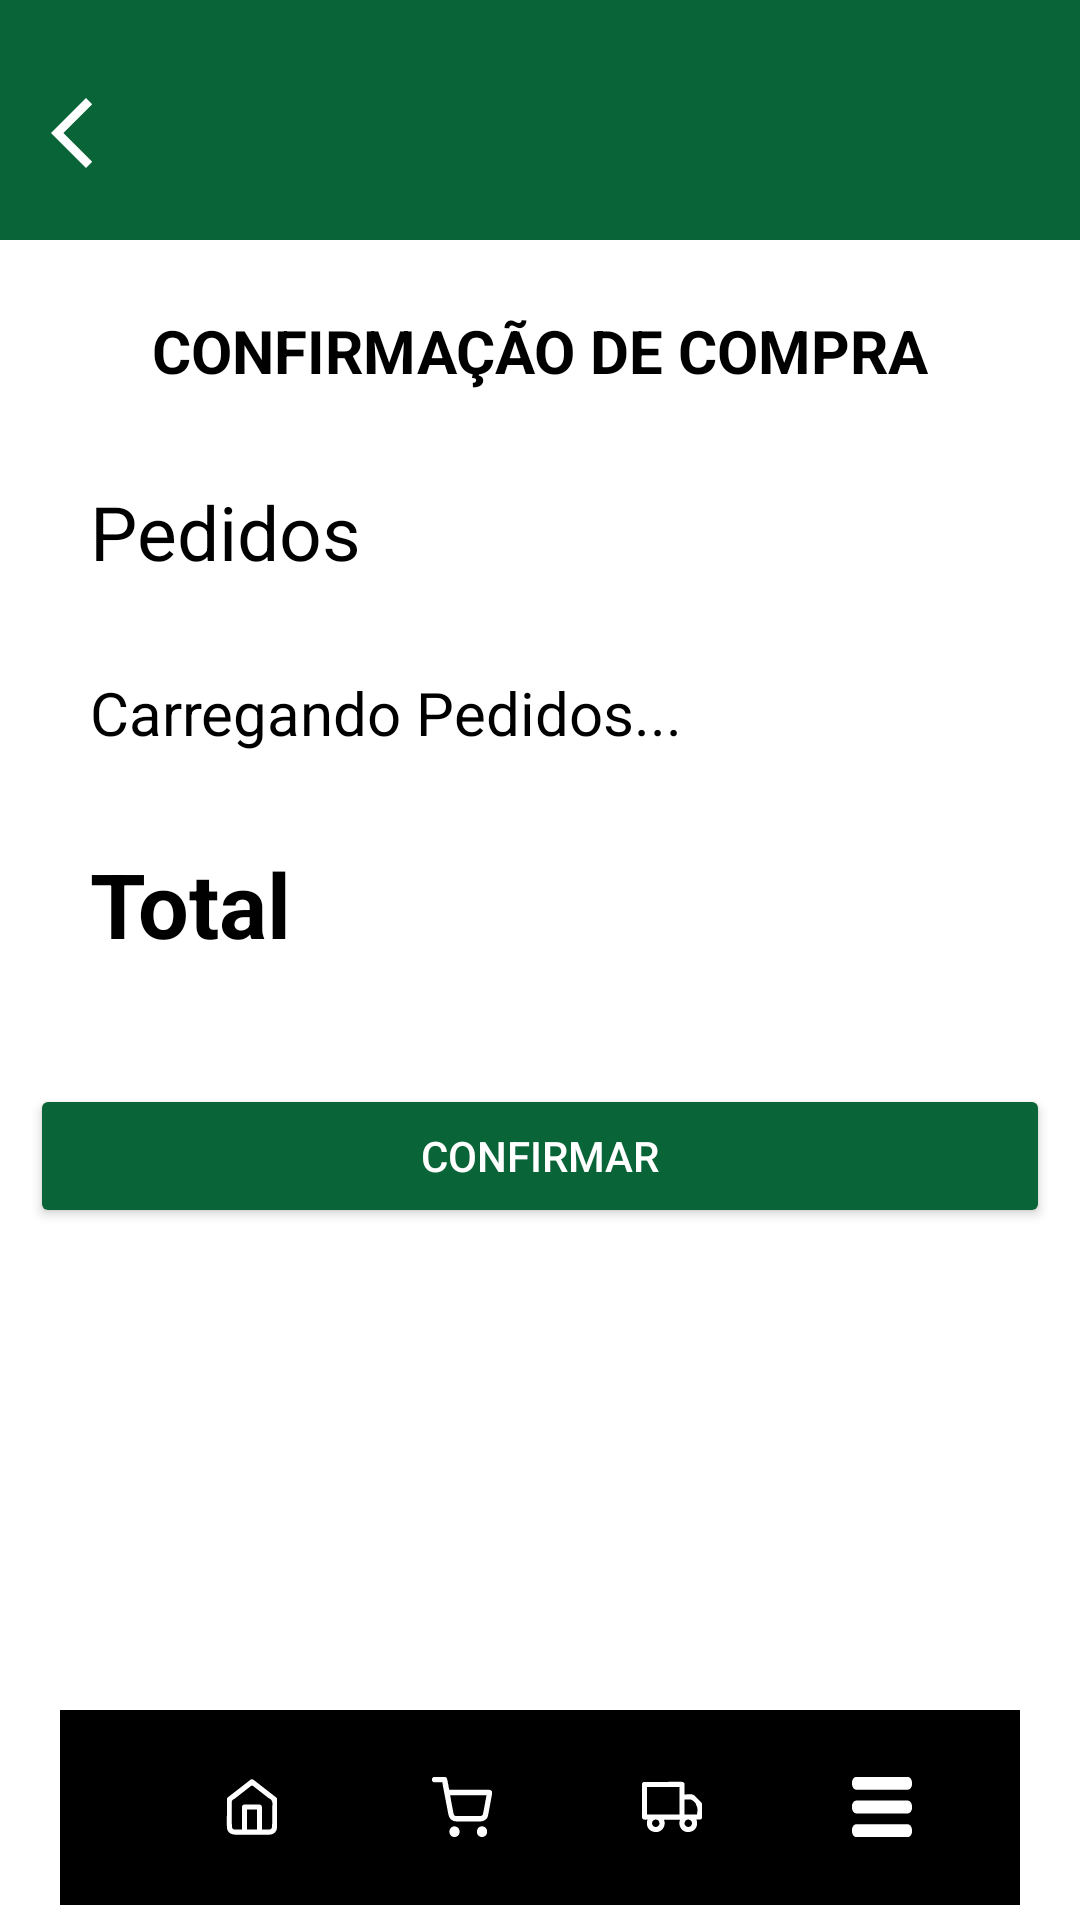

Icon bounding boxes for this 1080 × 1920 phone screenshot, format (x1, y1, x2, y2):
Carrinho: (432, 1777, 492, 1837)
Entrega: (642, 1781, 702, 1832)
Home: (226, 1779, 277, 1835)
Menu: (852, 1777, 912, 1837)
Voltar: (51, 98, 92, 168)
